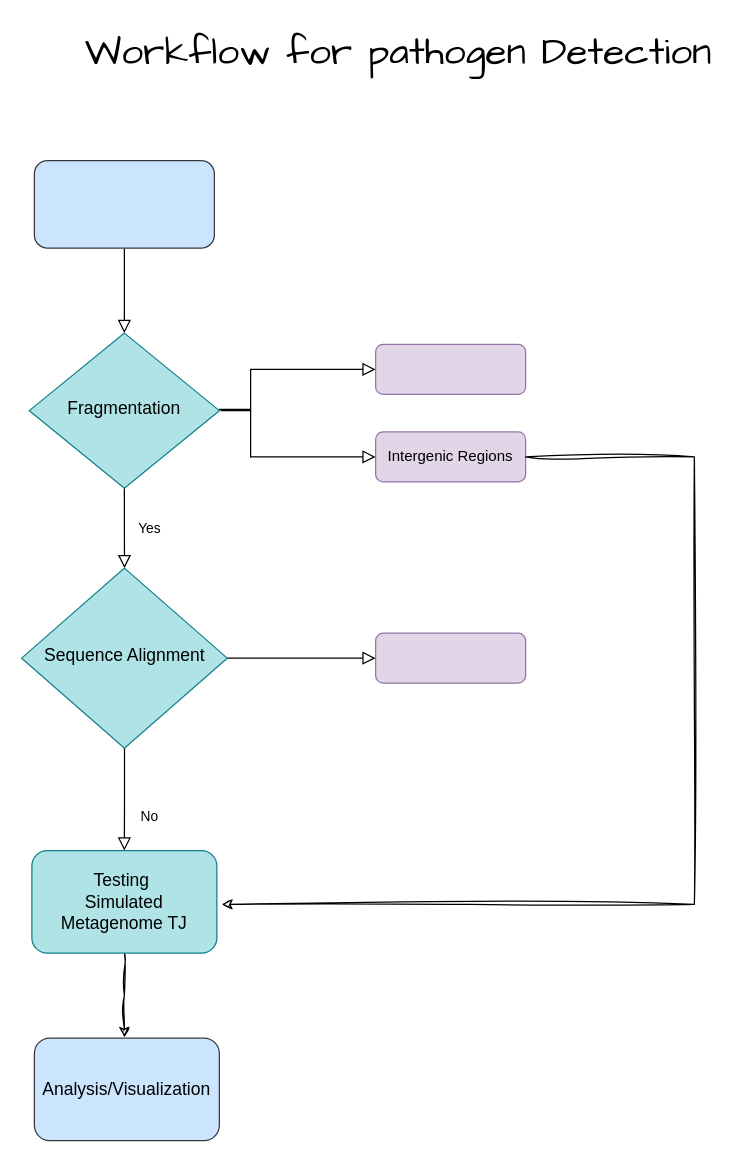
Image size: 744x1163. Some labels were removed from this diagram. The shapes that lost their labels are listed below. From the top down, each one's box as (x1, y1, x2, y2) in pixels, then its label:
(33, 159, 214, 248): Imput Data Org/ Dec
(374, 343, 526, 394): Coding Sequences(CDS)
(374, 632, 526, 683): Extraction of Divergent Regions
